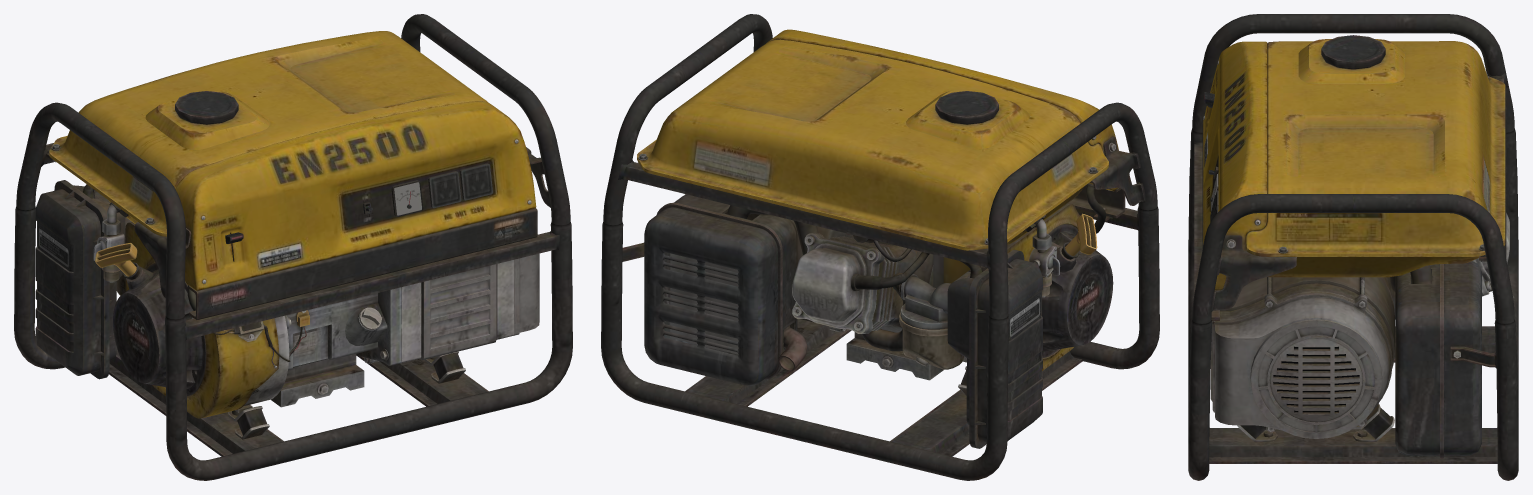
File: station_generator.glb
The picture shows the model from 3 angles, left to right: view 1: azimuth 30°, elevation 25°; view 2: azimuth 150°, elevation 25°; view 3: azimuth 270°, elevation 25°; orthographic projection.
Visible parts, largest first — view 1: portable_generator; view 2: portable_generator; view 3: portable_generator.
Part boxes in pixels (bbox=[...]): portable_generator: bbox=[14, 14, 572, 480]; portable_generator: bbox=[601, 14, 1159, 480]; portable_generator: bbox=[1188, 14, 1518, 480].
Bounding box in the file's own units: 0.8183 × 0.5769 × 0.564.
2 materials, 2 textured.
